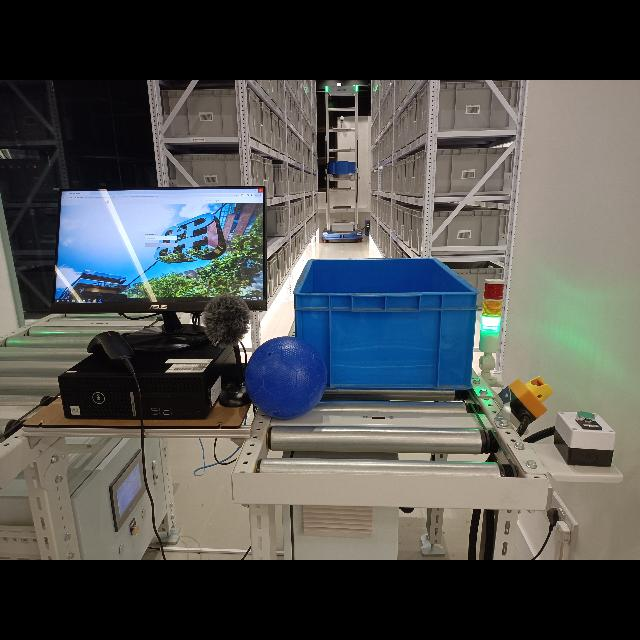B: (246, 336, 326, 419)
